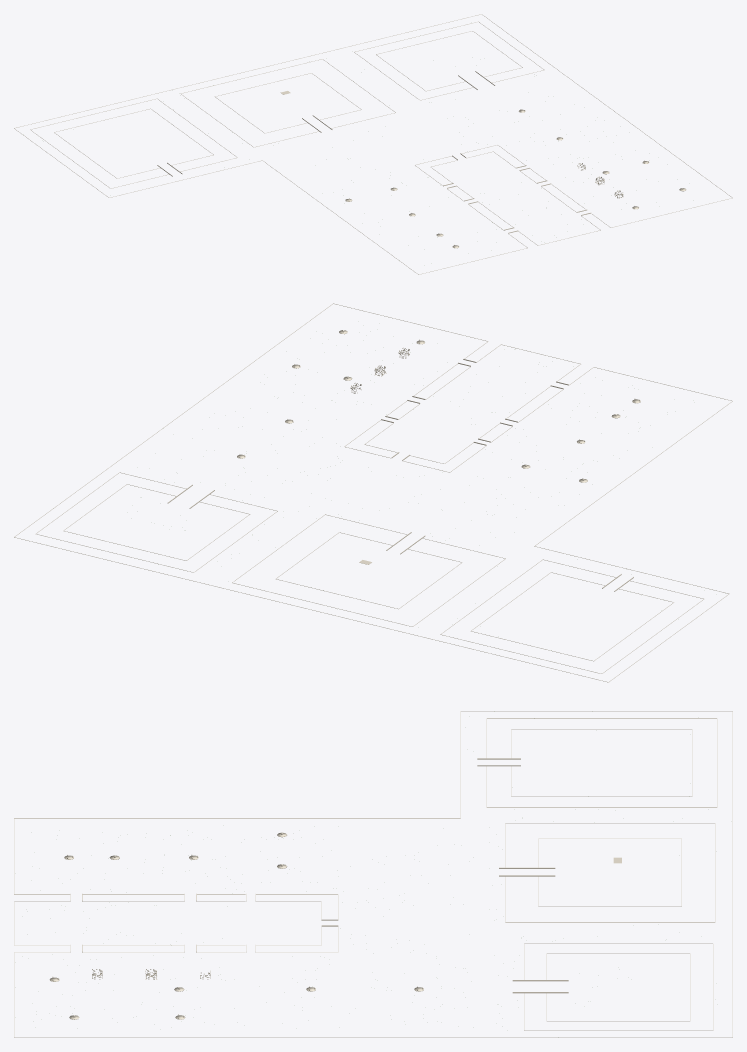
Rendered from Neris-10.glb.
3 renders of one model, top to bottom at view 1: azimuth 30°, elevation 25°; view 2: azimuth 150°, elevation 25°; view 3: azimuth 270°, elevation 25°, orthographic. The views are drawn at different scales.
Parts seen in each view (by area): view 1: Pale Carved Stone; view 2: Pale Carved Stone; view 3: Pale Carved Stone.
Boxes of the visible parts, x1,y1,x2,y2 form: Pale Carved Stone: (14,14,732,274); Pale Carved Stone: (14,303,732,682); Pale Carved Stone: (14,711,732,1037).
Bounding box in the file's own units: 744 × 13.15 × 692.
